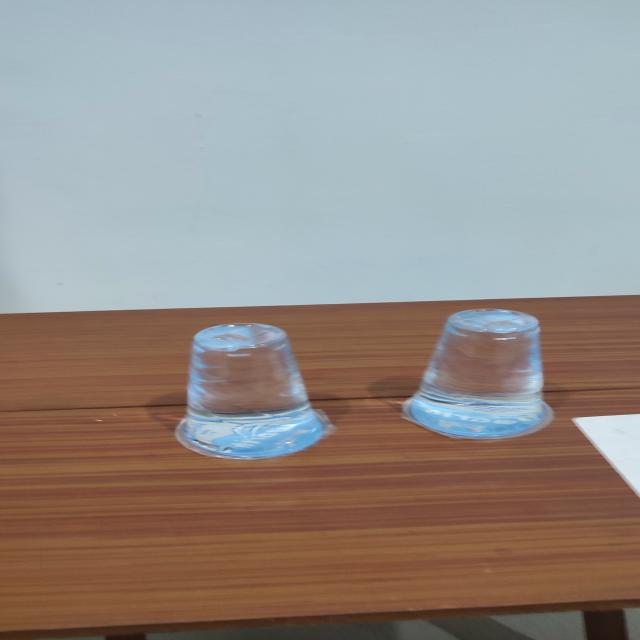air gelas: (157, 320, 345, 454), (409, 305, 561, 437)
